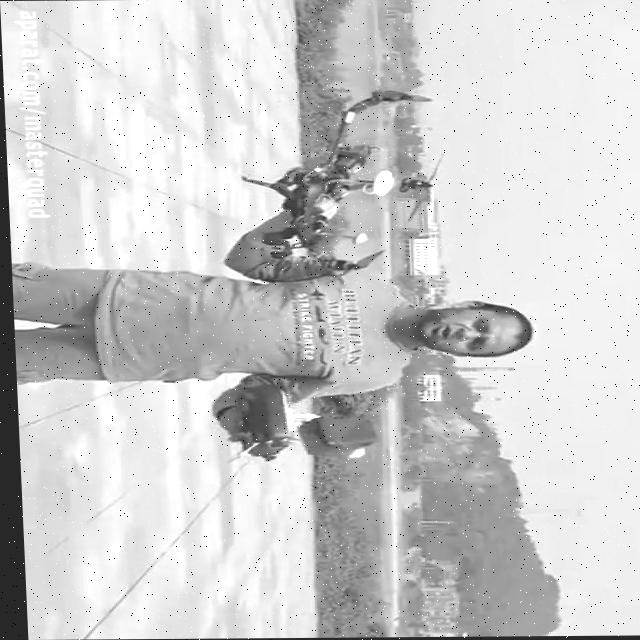drone: (234, 88, 449, 284)
